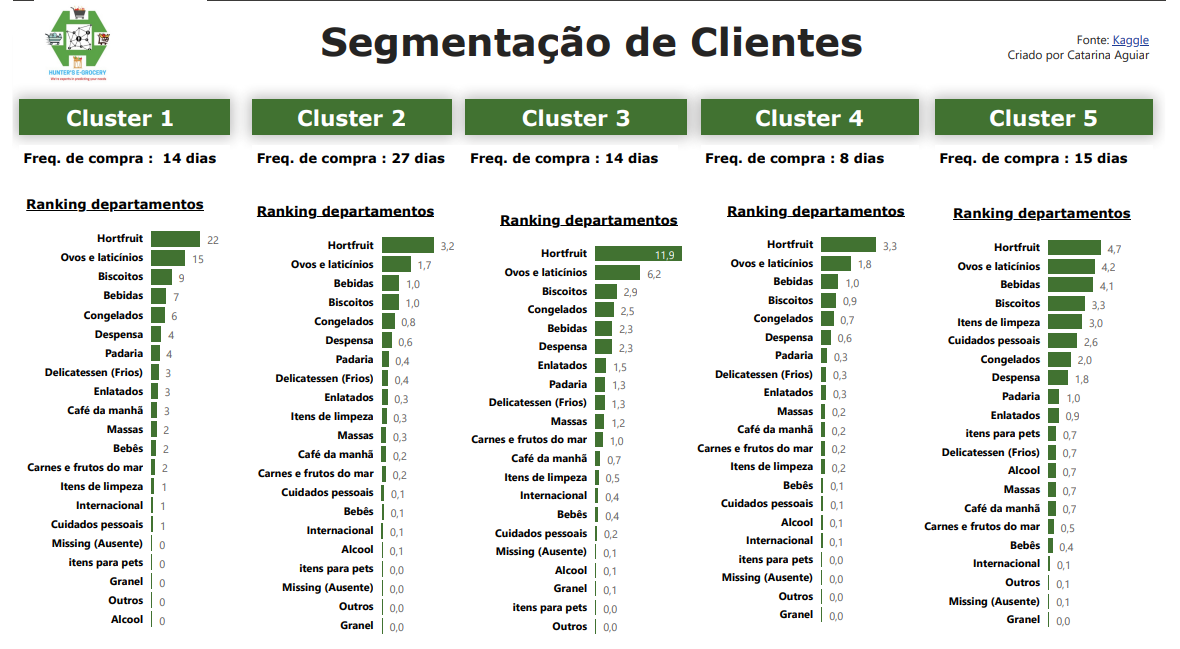

What the dashboard file says about the page in this screenshot:
{"tool":"powerbi","page":{"name":"Página 1","canvas":[1280,720],"ordinal":0},"visuals":[{"type":"clusteredBarChart","title":"Ranking departamentos","fields":{"Category":["Departamento  (Report_BI_Final).Departamento "],"Y":["Sum(Departamento  (Report_BI_Final).Cluster 1)"]},"box":[10,217.1,274.3,492.8],"z":0},{"type":"clusteredBarChart","title":"Ranking departamentos","fields":{"Y":["Sum(Departamento  (Report_BI_Final).Cluster 2)"],"Category":["Departamento  (Report_BI_Final).Departamento "]},"box":[265.7,224.3,272.9,492.9],"z":1000},{"type":"clusteredBarChart","title":"Ranking departamentos","fields":{"Y":["Sum(Departamento  (Report_BI_Final).Cluster 3)"],"Category":["Departamento  (Report_BI_Final).Departamento "]},"box":[502.9,234.3,274.3,482.9],"z":2000},{"type":"clusteredBarChart","title":"Ranking departamentos","fields":{"Y":["Sum(Departamento  (Report_BI_Final).Cluster 4)"],"Category":["Departamento  (Report_BI_Final).Departamento "]},"box":[754.3,224.3,275.7,480],"z":3000},{"type":"clusteredBarChart","title":"Ranking departamentos","fields":{"Y":["Sum(Departamento  (Report_BI_Final).Cluster 5)"],"Category":["Departamento  (Report_BI_Final).Departamento "]},"box":[1005.7,227.1,274.3,482.9],"z":4000},{"type":"textbox","box":[24.3,0,191.4,55.7],"z":5000},{"type":"textbox","box":[502.9,110,245.7,38.6],"z":6000},{"type":"textbox","box":[7.1,110,234.3,38.6],"z":7000},{"type":"textbox","box":[265.7,110,221.4,38.6],"z":8000},{"type":"textbox","box":[764.3,110,241.4,38.6],"z":9000},{"type":"textbox","box":[1024.3,110,241.4,38.6],"z":10000},{"type":"textbox","box":[7.1,160,234.3,30],"z":11000},{"type":"textbox","box":[265.7,160,237.1,30],"z":12000},{"type":"textbox","box":[502.9,160,235.7,30],"z":13000},{"type":"textbox","box":[764.3,160,241.4,30],"z":14000},{"type":"textbox","box":[1024.3,160,241.4,30],"z":15000},{"type":"textbox","box":[24.3,14.3,241.4,14.3],"z":16000},{"type":"textbox","box":[215.7,14.3,854.3,71.4],"z":17000},{"type":"image","box":[0,0,151.4,97.1],"z":17001},{"type":"textbox","box":[1087.1,28.6,180,57.1],"z":17002}]}

Visuals, with their boxes in screenshot pixels (x1, y1, x2, y2), scaled from the page's 1280x720 canvas onto the 1180x649 screenshot:
"Ranking departamentos" clusteredBarChart: (9, 196, 262, 640)
"Ranking departamentos" clusteredBarChart: (245, 202, 497, 646)
"Ranking departamentos" clusteredBarChart: (464, 211, 716, 646)
"Ranking departamentos" clusteredBarChart: (695, 202, 950, 635)
"Ranking departamentos" clusteredBarChart: (927, 205, 1179, 640)
textbox: (22, 0, 199, 50)
textbox: (464, 99, 690, 134)
textbox: (7, 99, 223, 134)
textbox: (245, 99, 449, 134)
textbox: (705, 99, 927, 134)
textbox: (944, 99, 1167, 134)
textbox: (7, 144, 223, 171)
textbox: (245, 144, 464, 171)
textbox: (464, 144, 681, 171)
textbox: (705, 144, 927, 171)
textbox: (944, 144, 1167, 171)
textbox: (22, 13, 245, 26)
textbox: (199, 13, 986, 77)
image: (0, 0, 140, 88)
textbox: (1002, 26, 1168, 77)
